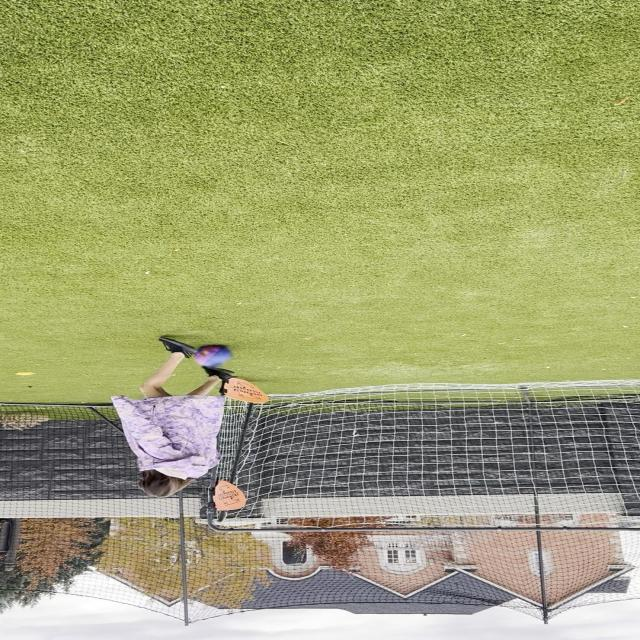ball: (195, 345, 233, 368)
